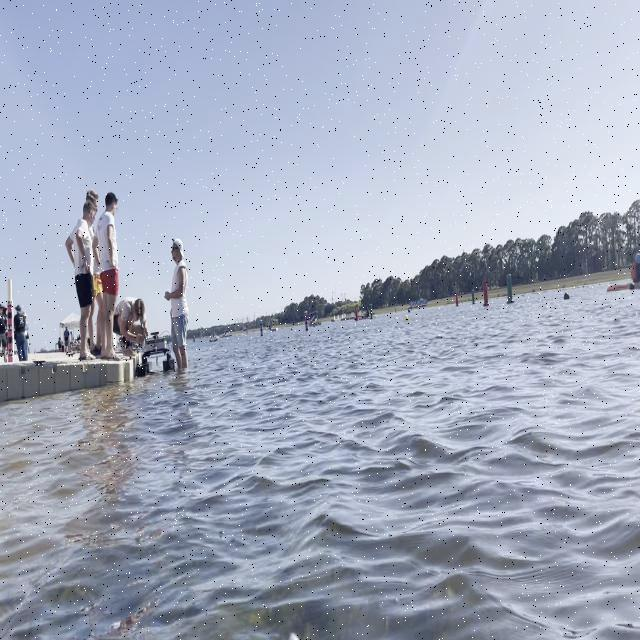buoy: (630, 282, 635, 292), (563, 292, 569, 300), (404, 314, 408, 322)
